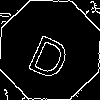D: (25, 25, 77, 82)
